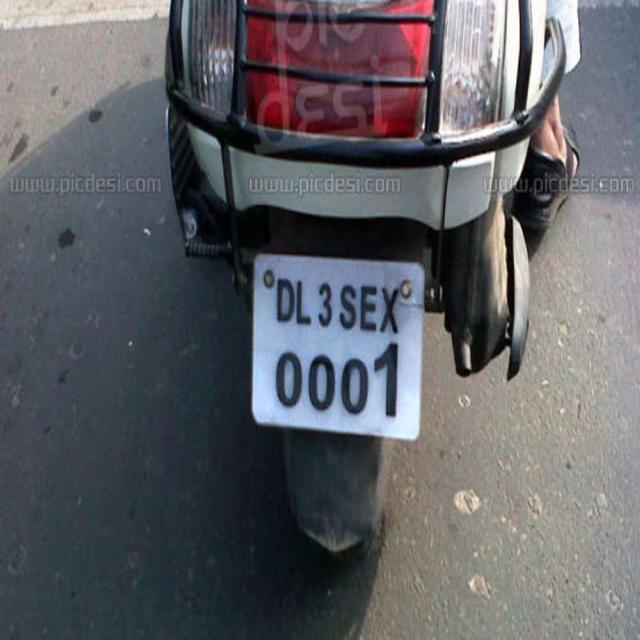number plate: (250, 250, 425, 442)
